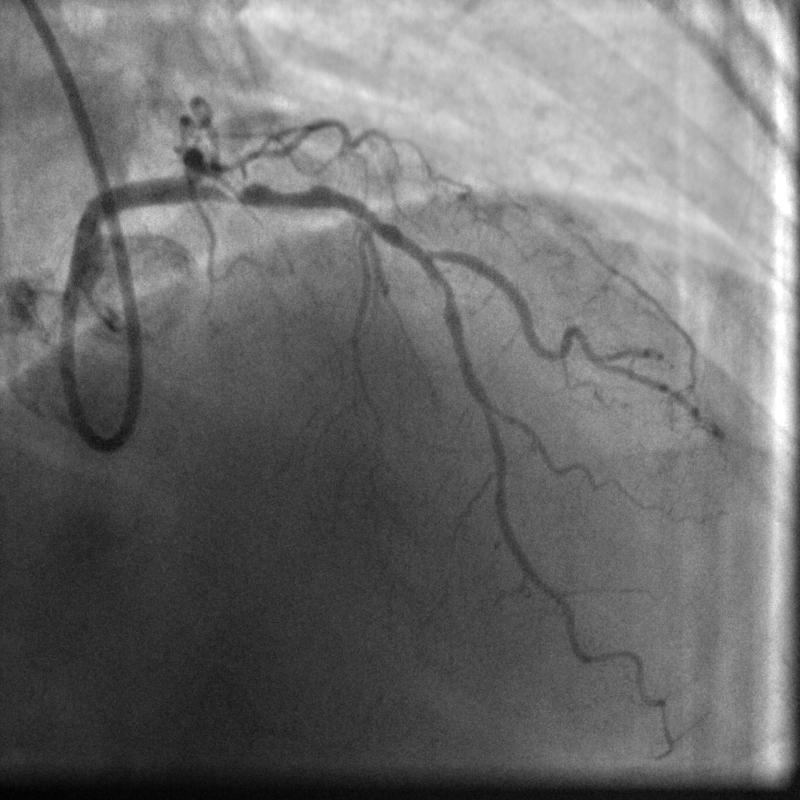Stenosis: (212, 172, 325, 207)
